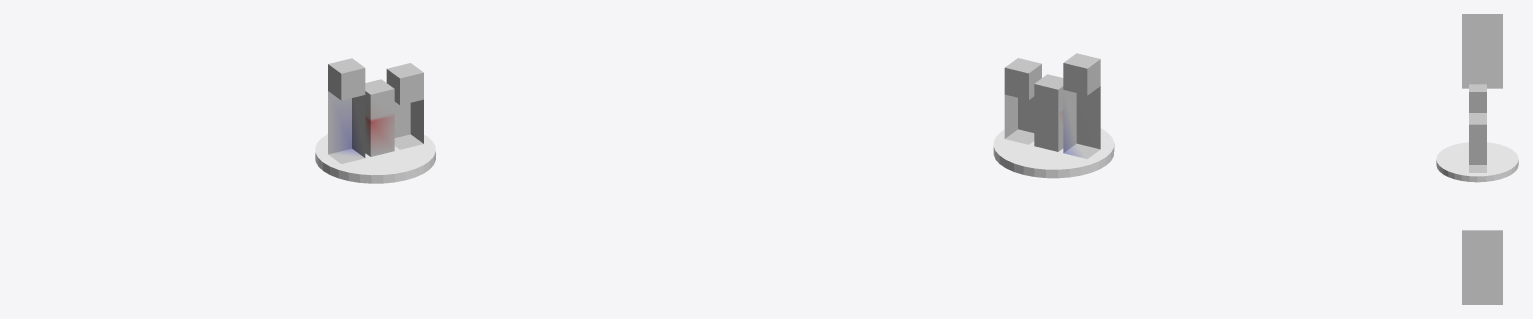
File: porcentage-object.glb
3 views of the same model, side by side, from view 1: azimuth 30°, elevation 25°; view 2: azimuth 150°, elevation 25°; view 3: azimuth 270°, elevation 25° (orthographic). The views are drawn at different scales.
Visible parts, largest first — view 1: Cube, Cylinder; view 2: Cube, Cylinder; view 3: Plane, Cylinder, Cube.
Part boxes in pixels (x1,y1,x2,y2): Cube: [328, 58, 423, 163]; Cylinder: [315, 134, 435, 183]; Cube: [1004, 53, 1100, 158]; Cylinder: [993, 128, 1114, 178]; Plane: [1462, 14, 1502, 304]; Cylinder: [1436, 142, 1518, 182]; Cube: [1469, 84, 1486, 172].
Bounding box in the file's own units: 12.45 × 2.81 × 2.
